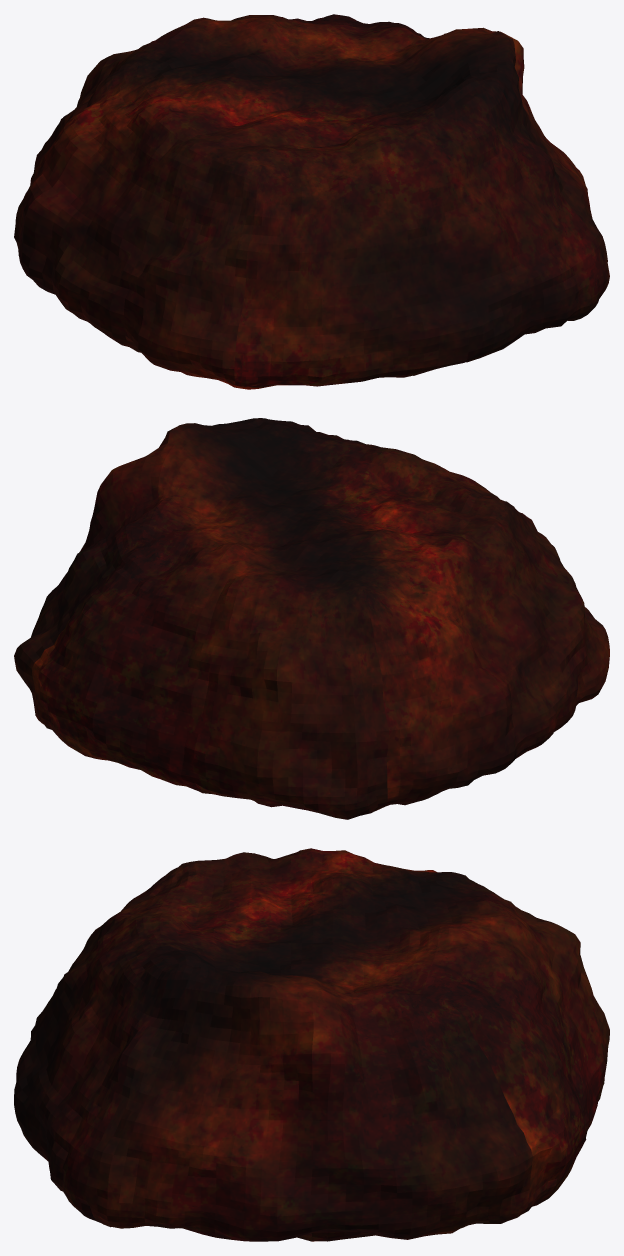
File: MODEL_Selection_Stone.fbx
The picture shows the model from 3 angles, top to bottom: view 1: azimuth 30°, elevation 25°; view 2: azimuth 150°, elevation 25°; view 3: azimuth 270°, elevation 25°; orthographic projection. The views are drawn at different scales.
Parts seen in each view (by area): view 1: Cube; view 2: Cube; view 3: Cube.
Part boxes in pixels (x1,y1,x2,y2): Cube: (14, 14, 609, 389); Cube: (14, 418, 609, 819); Cube: (14, 848, 609, 1241).
Bounding box in the file's own units: 440 × 201 × 440.
Materials: 1 (1 with a texture image).
